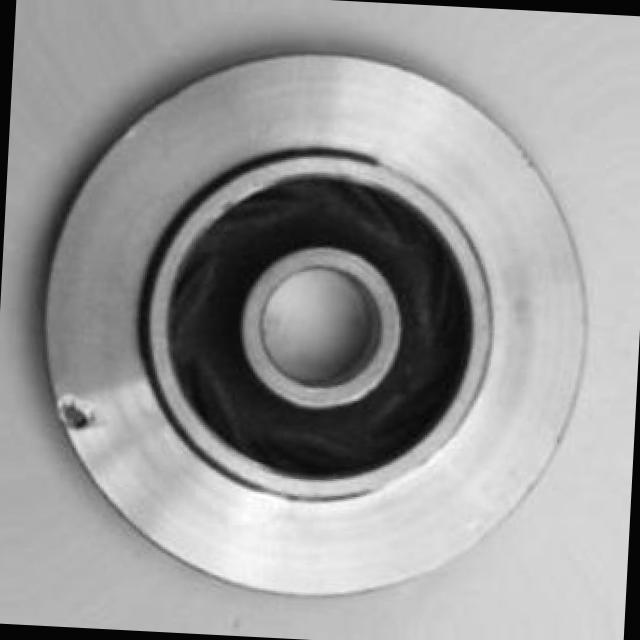Defect: (52, 388, 112, 446)
